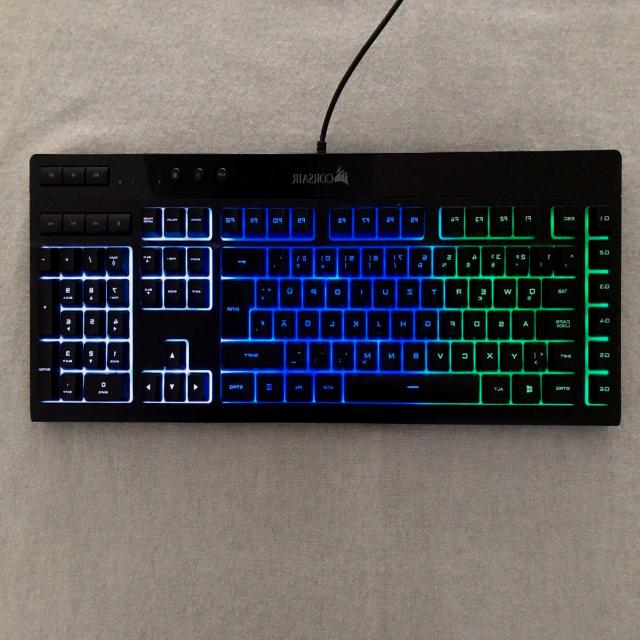0: (316, 244, 338, 274)
1: (538, 244, 556, 272)
2: (513, 243, 531, 272)
3: (486, 243, 506, 273)
4: (463, 244, 482, 274)
5: (436, 244, 458, 274)
6: (413, 244, 433, 274)
7: (389, 244, 409, 273)
8: (364, 245, 385, 274)
9: (340, 245, 361, 274)
a: (518, 308, 536, 338)
accent: (270, 245, 290, 273)
ae: (276, 308, 296, 336)
alt-left: (485, 372, 512, 402)
altgr-right: (316, 371, 343, 401)
b: (406, 339, 427, 369)
c: (456, 340, 476, 369)
caret: (563, 244, 581, 271)
comma: (335, 340, 355, 368)
d: (468, 308, 488, 337)
del: (222, 246, 266, 274)
e: (471, 276, 493, 306)
enter: (223, 276, 255, 339)
f: (444, 308, 463, 337)
g: (419, 308, 439, 336)
h: (395, 308, 415, 336)
hash: (253, 307, 273, 336)
i: (353, 276, 373, 304)
j: (371, 308, 391, 336)
k: (346, 308, 366, 336)
keyboard: (27, 150, 622, 422)
l: (323, 308, 344, 336)
less: (531, 339, 549, 369)
m: (358, 339, 379, 369)
minus: (288, 340, 308, 368)
n: (382, 339, 402, 369)
o: (328, 277, 350, 305)
oe: (299, 308, 319, 336)
p: (305, 277, 325, 305)
plus: (258, 276, 277, 304)
point: (311, 340, 331, 368)
q: (521, 275, 543, 305)
r: (449, 276, 469, 305)
s: (492, 308, 512, 337)
shift-left: (554, 340, 584, 369)
shift-lock: (547, 309, 582, 337)
shift-right: (222, 340, 284, 368)
space: (346, 372, 482, 402)
ss: (293, 246, 313, 274)
strg-left: (545, 373, 583, 403)
strg-right: (220, 370, 255, 401)
t: (425, 276, 445, 304)
tab: (549, 276, 582, 304)
u: (376, 277, 396, 305)
ue: (282, 277, 302, 305)
v: (431, 339, 451, 369)
w: (498, 275, 518, 305)
x: (480, 339, 500, 369)
y: (506, 340, 524, 369)
z: (400, 277, 420, 305)
